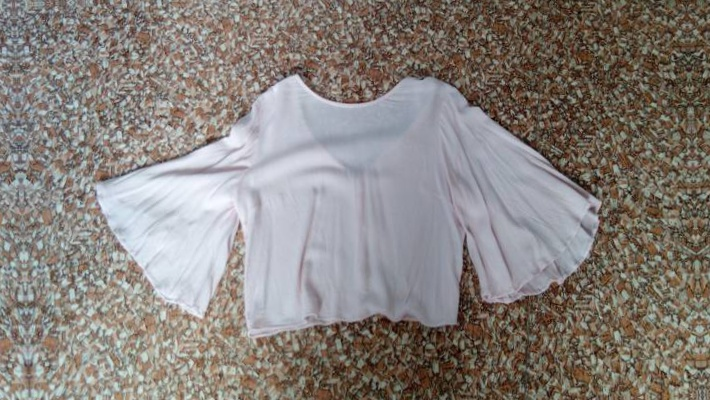Blouse: (66, 35, 606, 368)
